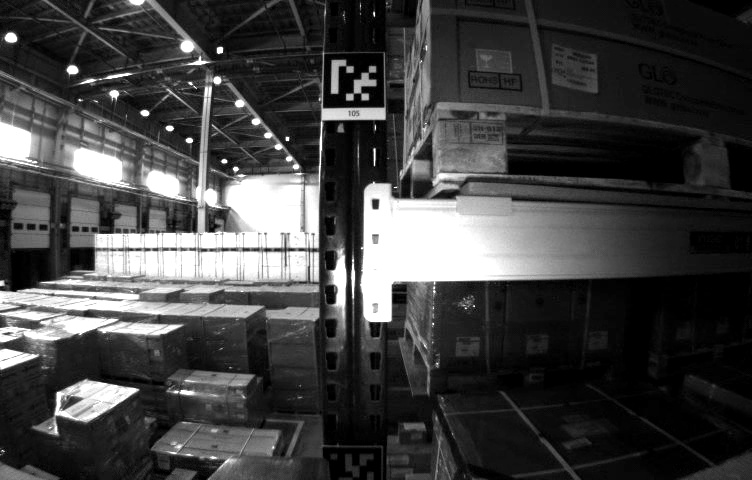True Barcode: (546, 40, 603, 98)
